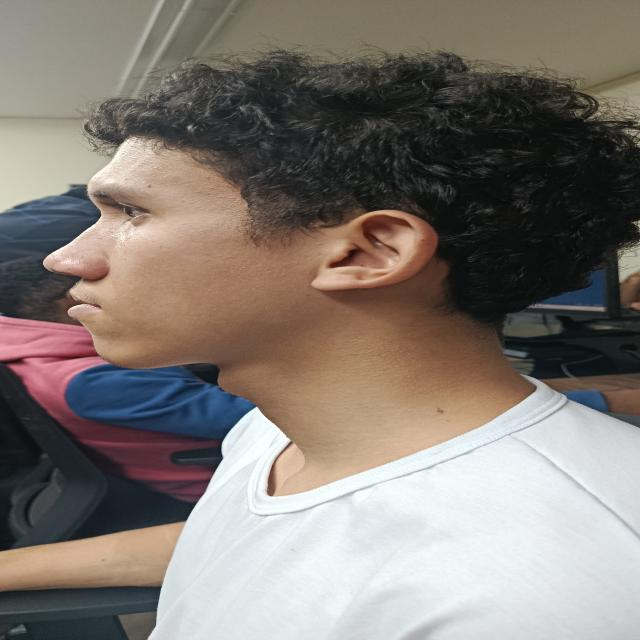sem_oculos: (59, 162, 439, 266)
